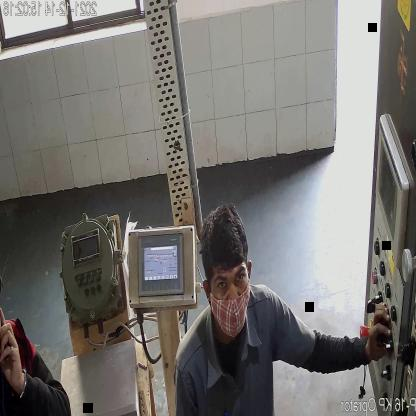no_goggles: (212, 268, 247, 303)
